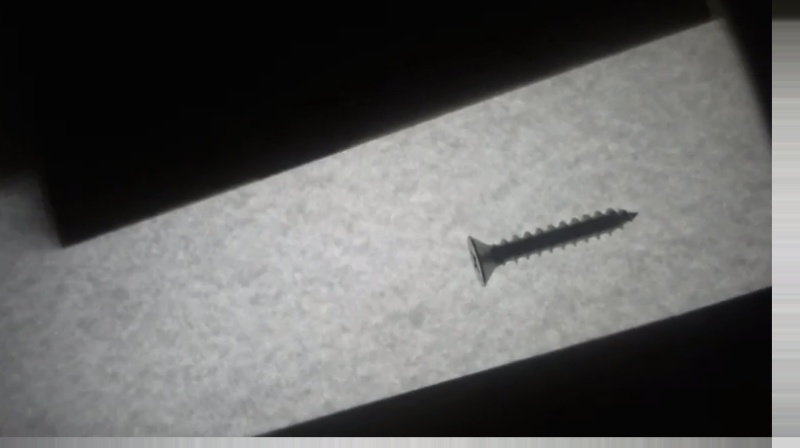S001: (462, 205, 644, 291)
